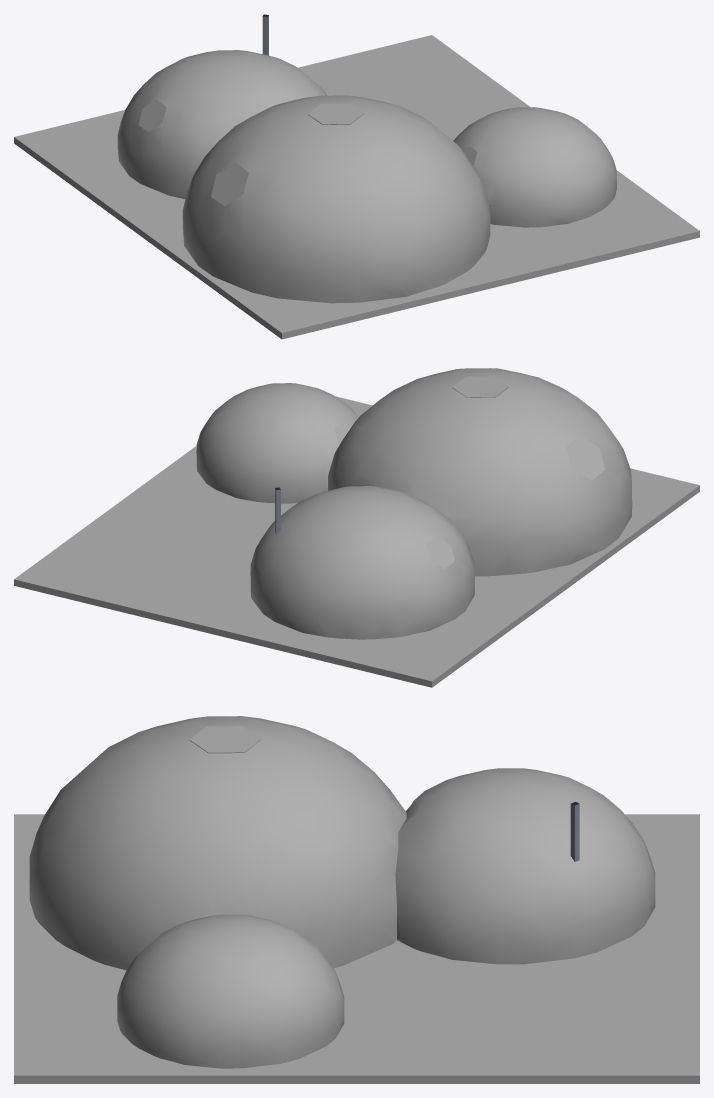
Rendered from domecompiledV1.fbx.
3 renders of one model, top to bottom at view 1: azimuth 30°, elevation 25°; view 2: azimuth 150°, elevation 25°; view 3: azimuth 270°, elevation 25°, orthographic. The views are drawn at different scales.
Parts seen in each view (by area): view 1: dome; view 2: dome; view 3: dome, waterfiltration.
Boxes of the visible parts, <box> form: dome: <box>14,35,699,339</box>; dome: <box>14,368,699,687</box>; dome: <box>14,716,699,1083</box>; waterfiltration: <box>570,802,579,861</box>.
Bounding box in the file's own units: 0.1819 × 0.0548 × 0.2019.
